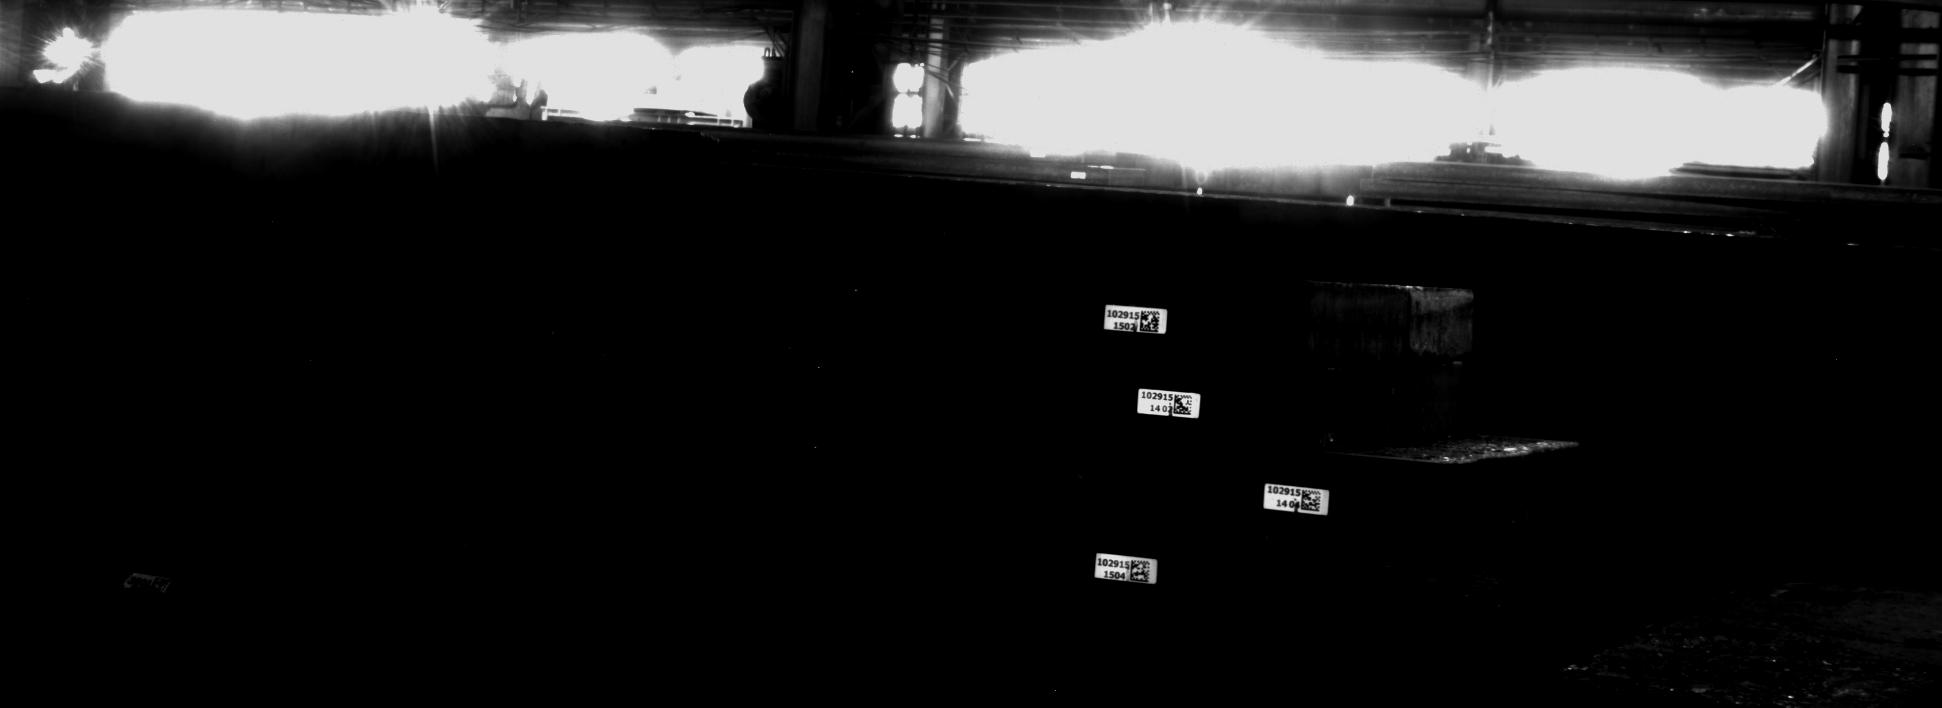data matrix: (1130, 559, 1152, 585), (1139, 309, 1163, 333), (1300, 489, 1324, 512), (1174, 394, 1195, 417)
